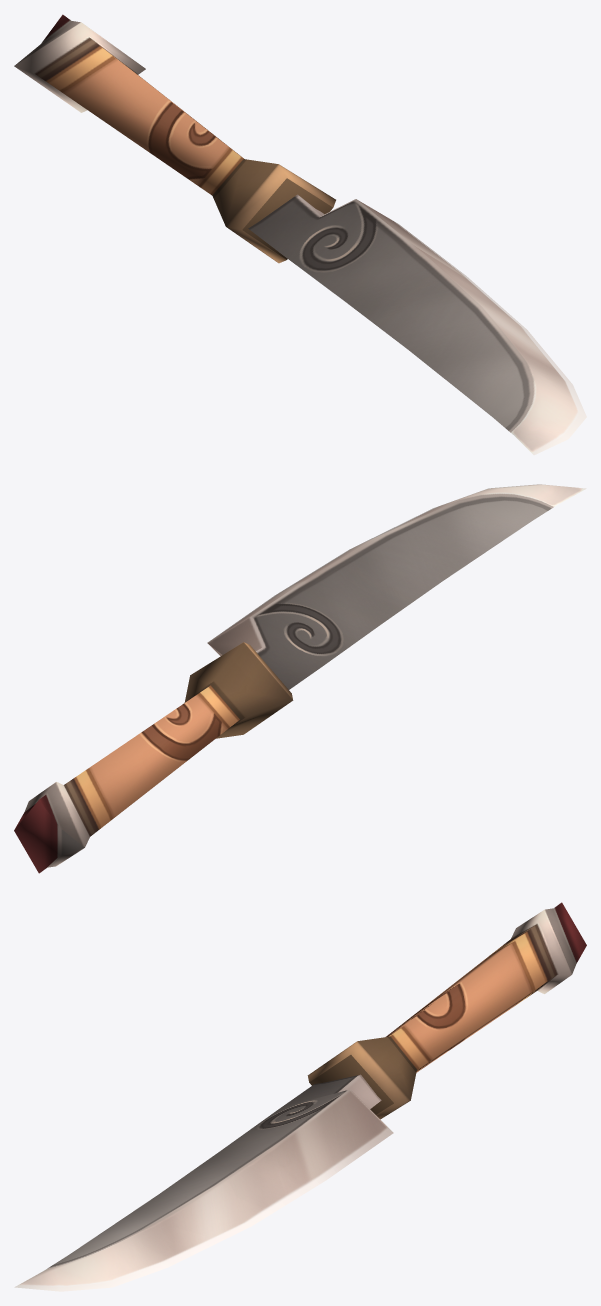
The model's file is eqp_wpn_thief.FBX.
3 views of the same model, one above another, from view 1: azimuth 30°, elevation 25°; view 2: azimuth 150°, elevation 25°; view 3: azimuth 330°, elevation 25° (orthographic). The views are drawn at different scales.
Visible parts, largest first — view 1: eqp_wpn_thief; view 2: eqp_wpn_thief; view 3: eqp_wpn_thief.
Part boxes in pixels (x1=…): eqp_wpn_thief: x1=14, y1=14, x2=586, y2=455; eqp_wpn_thief: x1=14, y1=484, x2=586, y2=873; eqp_wpn_thief: x1=14, y1=902, x2=586, y2=1291.
Size of the model in its own units: 0.084 by 0.0587 by 0.5669.
